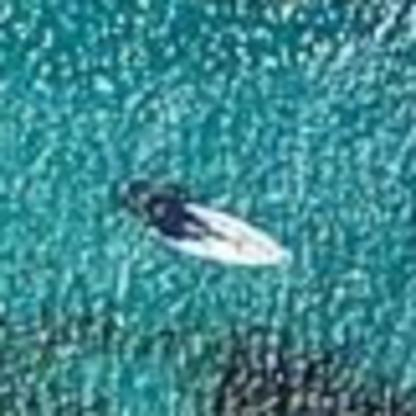ship: (106, 174, 295, 279)
